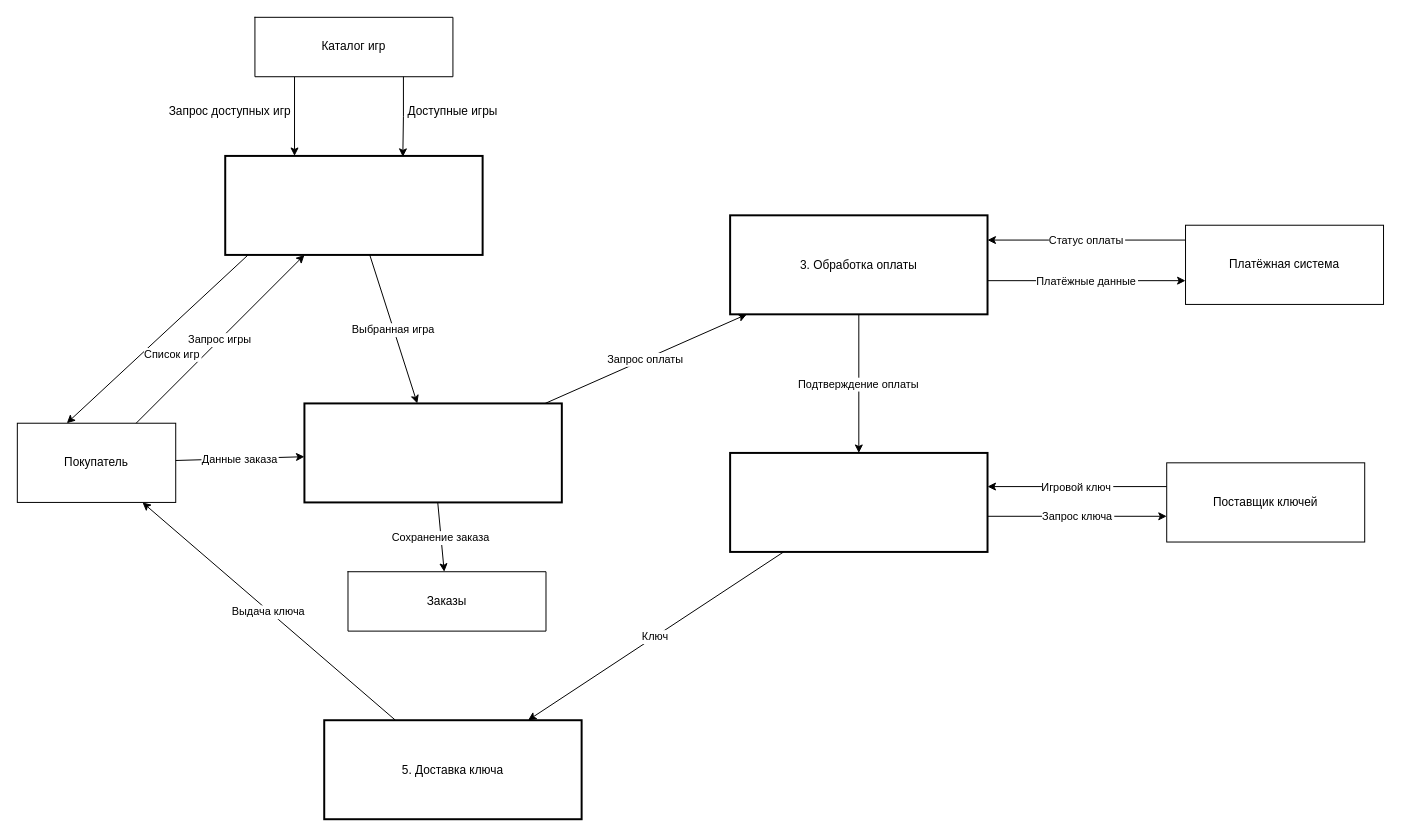
This 1401x838 diagram has some shape labels left out. Here are the shapes that lost their labels. From the top down, the box of each, then its label:
(224, 154, 483, 255): 1. Поиск и выбор игры
(303, 402, 562, 503): 2. Оформление заказа
(729, 451, 988, 552): 4. Получение ключа
